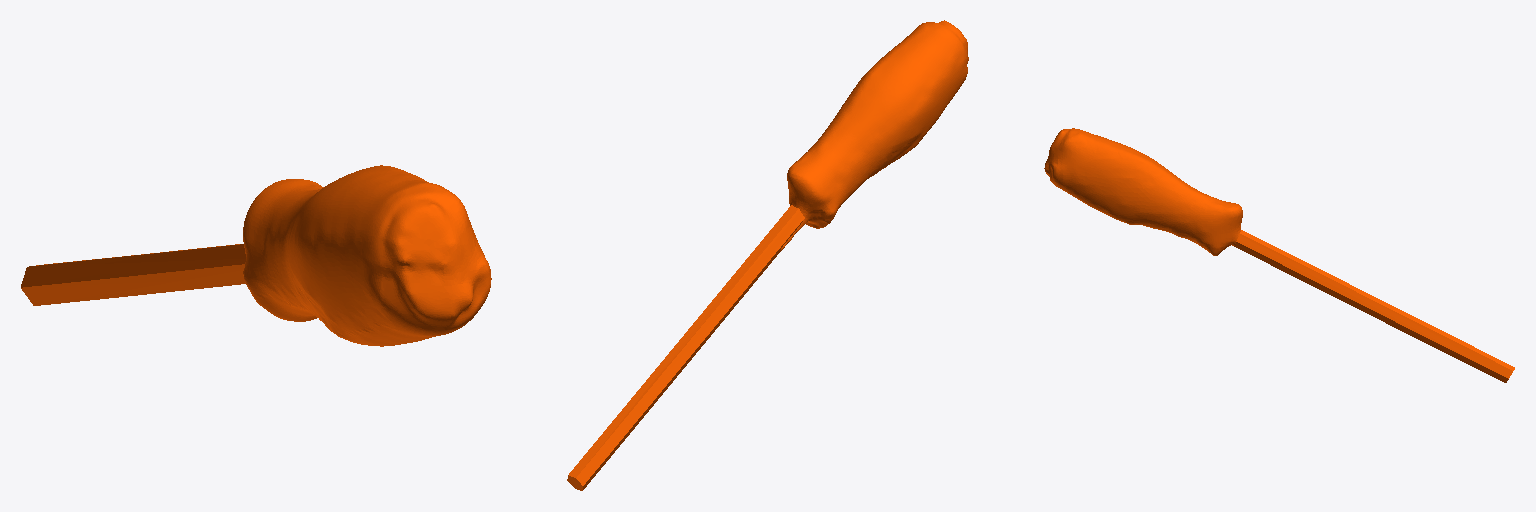
URDF robot description (screw_driver):
<?xml version="1.0" ?>
<robot name="screw_driver">
   <material name="obj_color">
      <color rgba="1.0 0.423529411765 0.0392156862745 1.0"/>
   </material>
   <link name="top">
      <inertial>
         <origin rpy="4.285767102649629e-05 0.001139012226318133 0.00114761276470032" xyz="0.002827034691832382 0.01083686976962338 -0.003182055642324202"/>
         <mass value="0.2739996327469583"/>
         <inertia ixx="0.001121771166675134" ixy="-0.0001516234805699003" ixz="6.993636284655508e-05" iyy="0.0002563426636771939" iyz="0.0004069732020867294" izz="0.0009513688316926214"/>
      </inertial>
      <visual>
         <origin rpy="0 0 0" xyz="0 0 0"/>
         <geometry>
            <mesh filename="top_watertight_tiny.stl" scale="1 1 1"/>
         </geometry>
         <material name="obj_color"/>
      </visual>
      <collision>
         <origin rpy="0 0 0" xyz="0 0 0"/>
         <geometry>
            <mesh filename="top_watertight_tiny.obj" scale="1 1 1"/>
         </geometry>
      </collision>
   </link>
   <link name="bottom">
      <inertial>
         <origin rpy="1.633333333199431e-08 1.633333333199431e-08 1.633333333362855e-08" xyz="0.3464080000000008 0.3464080000000008 0.3464080000000008"/>
         <mass value="0.0009800000000000017"/>
         <inertia ixx="1.633333333253906e-08" ixy="5.447480642029219e-19" ixz="5.447480642029219e-19" iyy="1.633333333253906e-08" iyz="5.447480642029219e-19" izz="1.633333333253906e-08"/>
      </inertial>
      <visual>
         <origin rpy="0 0 0" xyz="0 0 0"/>
         <geometry>
            <mesh filename="bottom_watertight_tiny.stl" scale="1 1 1"/>
         </geometry>
         <material name="obj_color"/>
      </visual>
   </link>
   <joint name="rotation" type="revolute">
      <origin xyz="0 0 0"/>
      <axis xyz="0 0 -1"/>
      <parent link="bottom"/>
      <child link="top"/>
      <dynamics damping="1.0" friction="1.0"/>
      <limit effort="0.1" velocity="0.1" lower="0" upper="0.001"/>
   </joint>
</robot>

--- Facts derived from the render (not from the file) ---
The picture shows the robot from 3 angles, left to right: view 1: azimuth 30°, elevation 25°; view 2: azimuth 150°, elevation 25°; view 3: azimuth 270°, elevation 25°; orthographic projection.
Model screw_driver with 2 links and 1 joints (1 revolute), rooted at bottom, posed all joints at 0.
Links seen in each view (by area): view 1: top; view 2: top; view 3: top.
Link boxes in pixels (x1,y1,x2,y2): top: (21,165,491,346); top: (567,20,968,490); top: (1044,128,1514,382).
Bounding box of the posed robot: 0.0672 × 0.296 × 0.1528 m (x, y, z).
1 mesh visuals loaded from 2 distinct referenced files (1 binary STL); not drawn: 1 (reference not matched to a file when rendering).
